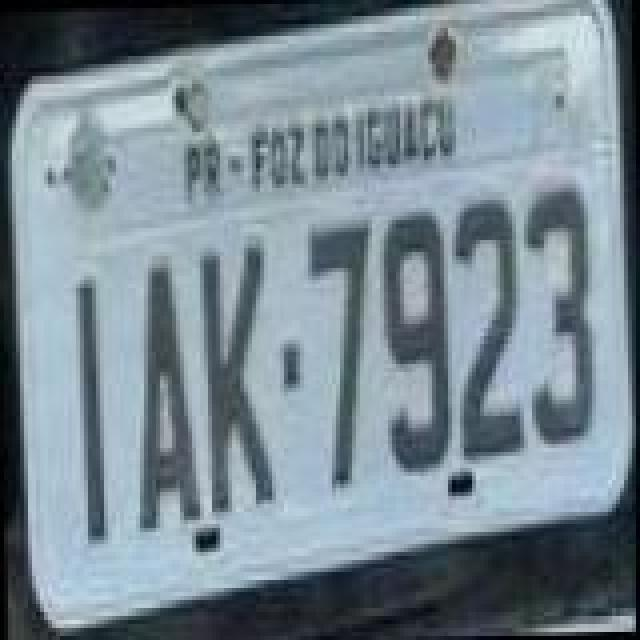1: (72, 270, 104, 546)
2: (448, 194, 524, 458)
3: (520, 180, 596, 444)
7: (304, 220, 376, 492)
9: (376, 208, 452, 472)
A: (128, 258, 200, 538)
K: (196, 238, 276, 518)
